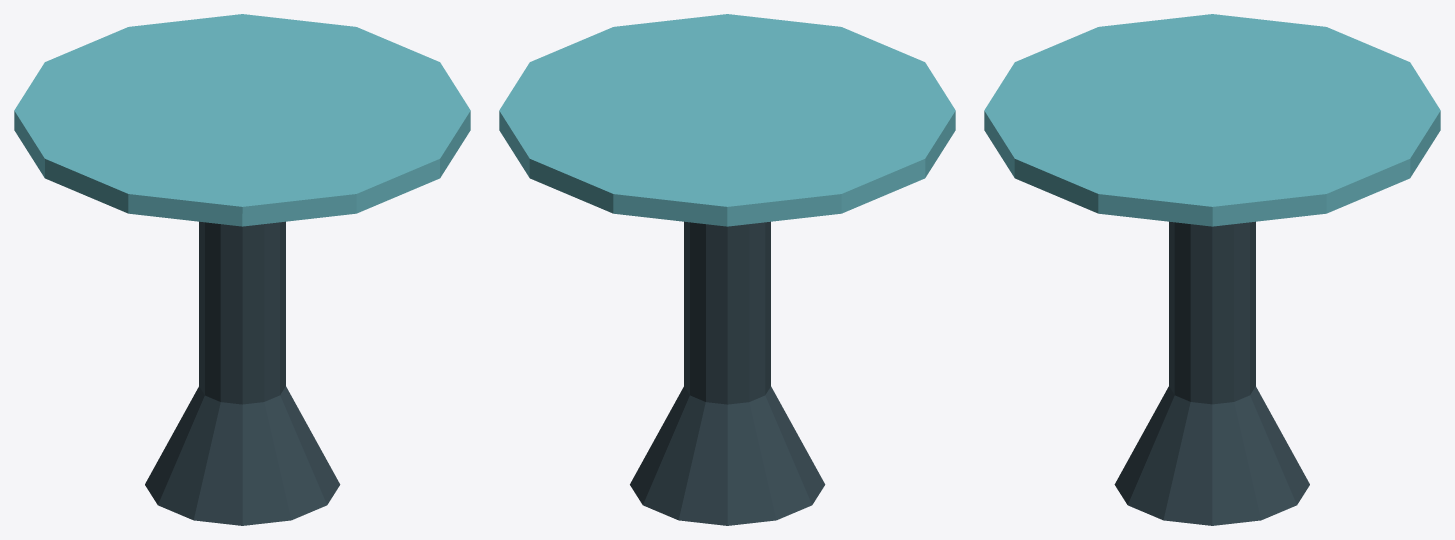
The picture shows the model from 3 angles, left to right: view 1: azimuth 30°, elevation 25°; view 2: azimuth 150°, elevation 25°; view 3: azimuth 270°, elevation 25°; orthographic projection.
Visible parts, largest first — view 1: node_MeshObject749483008-PolyPaper21; view 2: node_MeshObject749483008-PolyPaper21; view 3: node_MeshObject749483008-PolyPaper21.
Part boxes in pixels (x1,y1,x2,y2): node_MeshObject749483008-PolyPaper21: (14, 14, 470, 525); node_MeshObject749483008-PolyPaper21: (499, 14, 955, 525); node_MeshObject749483008-PolyPaper21: (984, 14, 1440, 525).
Bounding box in the file's own units: 0.42 × 0.3799 × 0.42.
